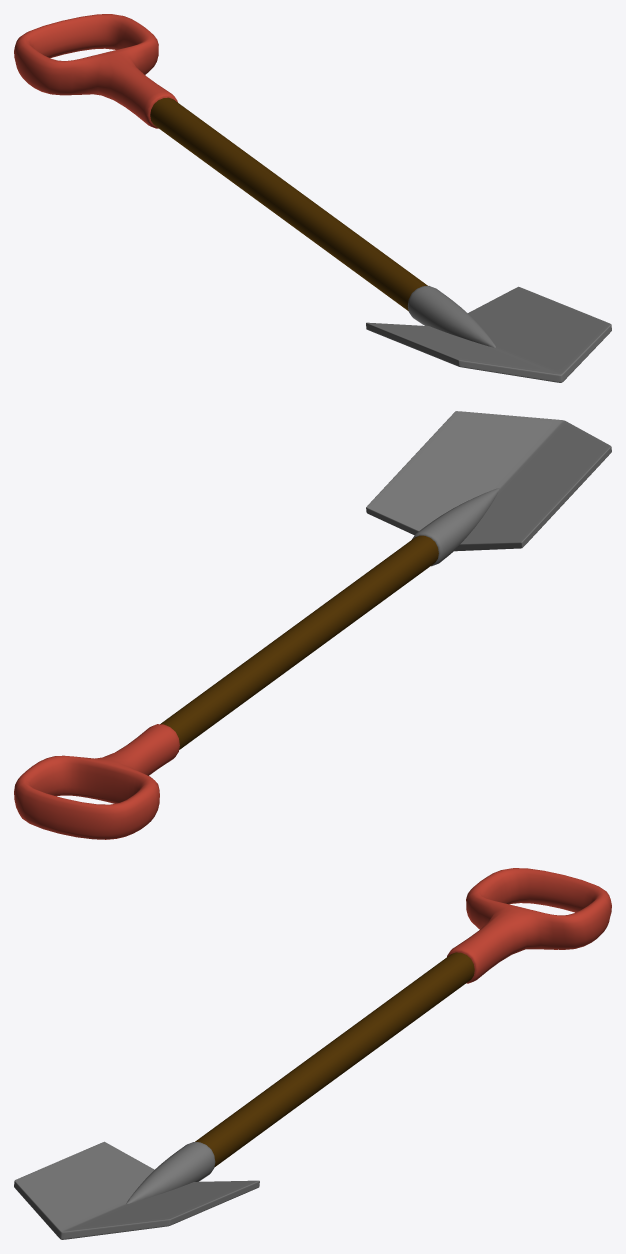
The model's file is Shovel.fbx.
3 views of the same model, one above another, from view 1: azimuth 30°, elevation 25°; view 2: azimuth 150°, elevation 25°; view 3: azimuth 330°, elevation 25° (orthographic).
Parts seen in each view (by area): view 1: polySurface4; view 2: polySurface4; view 3: polySurface4.
Boxes of the visible parts, box(x1,y1,x2,y2) form: polySurface4: box(14, 14, 611, 382); polySurface4: box(14, 411, 611, 839); polySurface4: box(14, 868, 611, 1239).
Size of the model in its own units: 46.46 by 17.02 by 260.
